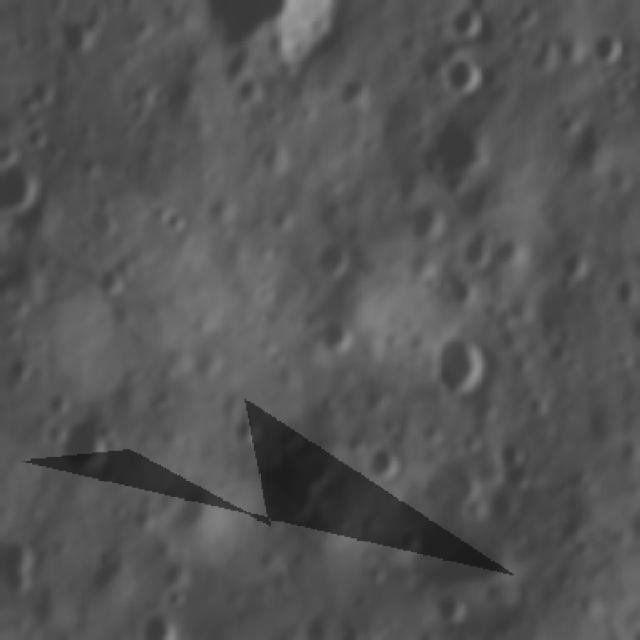crater: (202, 0, 342, 75), (404, 518, 516, 608), (250, 446, 336, 537), (428, 327, 498, 401), (420, 119, 492, 184), (52, 412, 117, 478), (160, 480, 222, 546), (417, 458, 480, 513), (2, 153, 43, 221), (49, 12, 100, 62), (2, 530, 40, 595), (76, 190, 122, 239), (308, 236, 354, 282), (454, 222, 498, 268), (408, 191, 450, 238), (438, 50, 480, 96), (218, 72, 270, 108), (312, 316, 358, 356), (435, 272, 480, 308), (447, 8, 487, 46), (602, 273, 638, 315), (585, 29, 623, 68), (88, 260, 125, 300), (330, 75, 368, 112), (556, 245, 592, 284), (26, 72, 62, 110), (368, 440, 404, 477), (549, 105, 586, 141), (227, 406, 259, 445), (160, 204, 195, 239), (89, 537, 122, 574), (434, 584, 466, 622), (494, 435, 526, 471), (522, 387, 556, 419), (44, 385, 70, 418), (163, 584, 189, 610), (265, 345, 289, 370), (148, 81, 172, 105)
